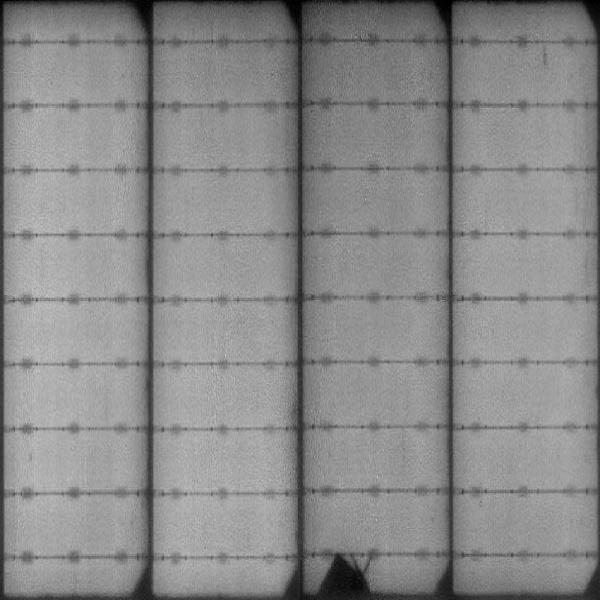broken: (315, 551, 375, 599)
